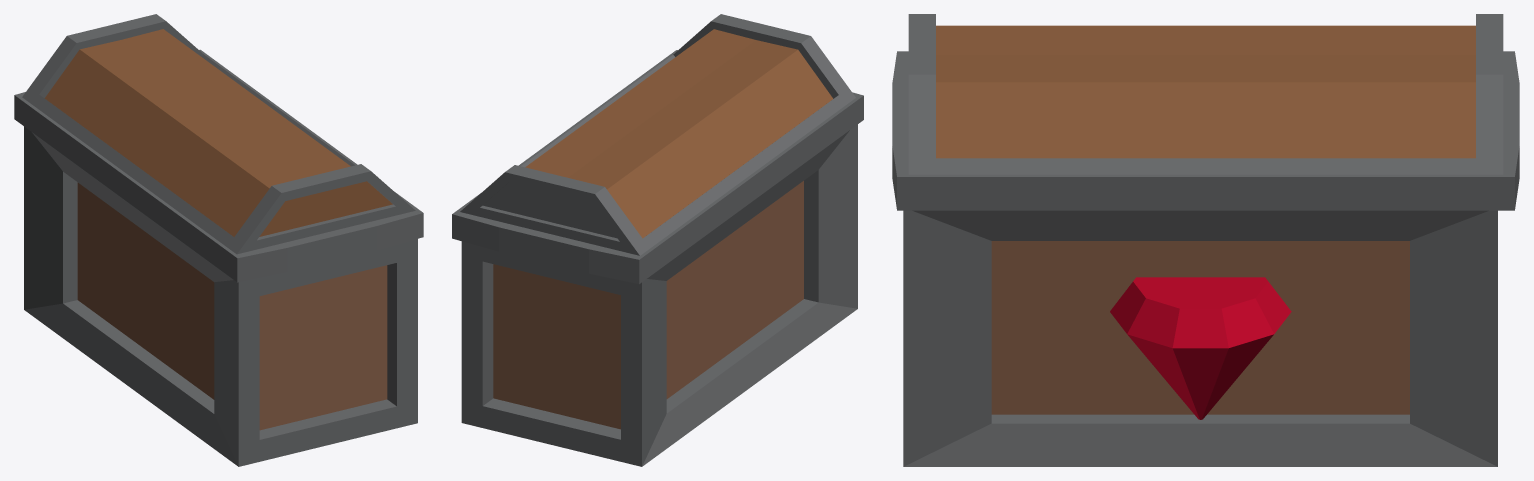
Rendered from chest idk.fbx.
The picture shows the model from 3 angles, left to right: view 1: azimuth 30°, elevation 25°; view 2: azimuth 150°, elevation 25°; view 3: azimuth 270°, elevation 25°; orthographic projection. The views are drawn at different scales.
Visible parts, largest first — view 1: Cube, Cube.001; view 2: Cube, Cube.001; view 3: Cube, Cube.001, Cone.
Part boxes in pixels (x1,y1,x2,y2): Cube: (24,126,417,466); Cube.001: (14,14,423,282); Cube: (461,124,857,466); Cube.001: (452,14,863,284); Cube: (903,210,1497,466); Cube.001: (892,14,1519,210); Cone: (1110,277,1291,419).
Size of the model in its own units: 248 by 279 by 438.
